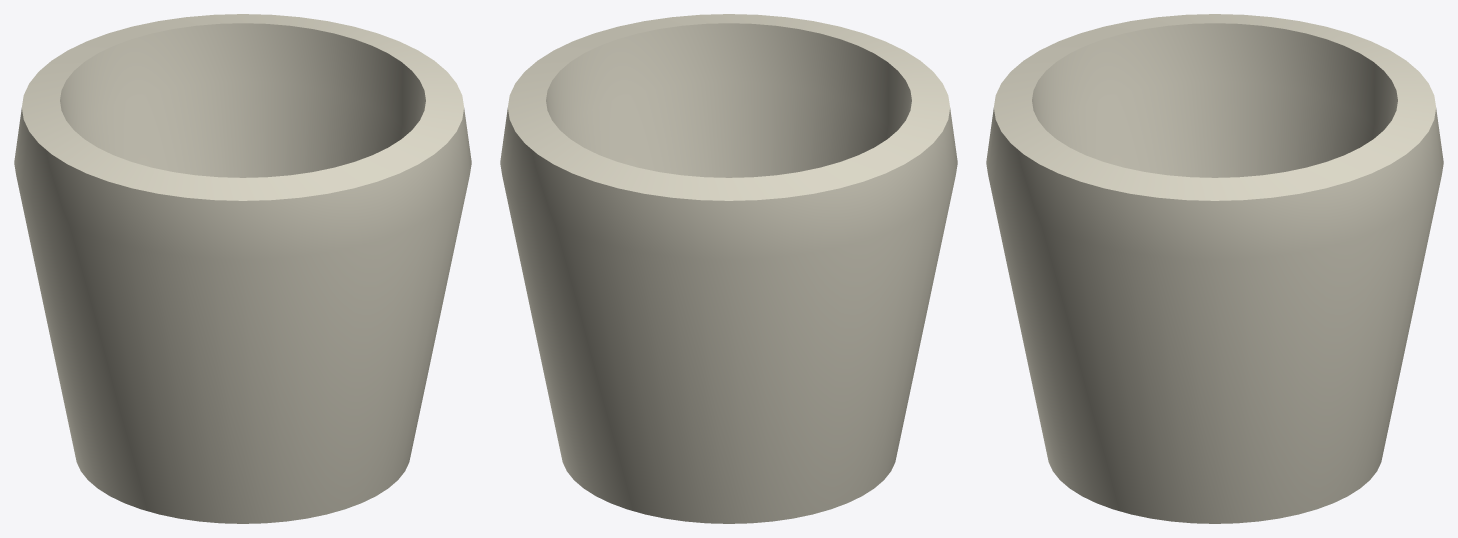
Rendered from glassblowing-studio-and-gallery-crucible-66ff8d0c__29601.glb.
The picture shows the model from 3 angles, left to right: view 1: azimuth 30°, elevation 25°; view 2: azimuth 150°, elevation 25°; view 3: azimuth 270°, elevation 25°; orthographic projection.
Visible parts, largest first — view 1: crucible; view 2: crucible; view 3: crucible.
Part boxes in pixels (bbox=[...]): crucible: bbox=[14, 14, 471, 523]; crucible: bbox=[500, 14, 957, 523]; crucible: bbox=[986, 14, 1443, 523].
Bounding box in the file's own units: 0.6 × 0.51 × 0.6.
